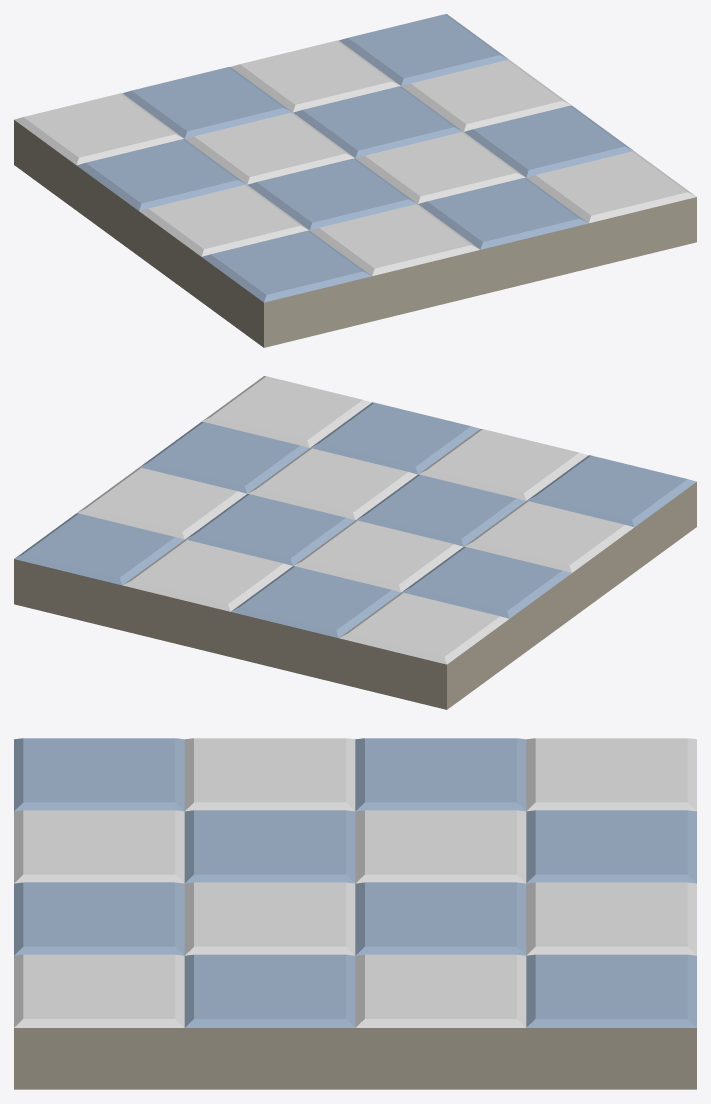
File: Mesh_GroundCeramic_I2.fbx
3 views of the same model, one above another, from view 1: azimuth 30°, elevation 25°; view 2: azimuth 150°, elevation 25°; view 3: azimuth 270°, elevation 25° (orthographic). The views are drawn at different scales.
Parts seen in each view (by area): view 1: Mesh_GroundCeramic_I2; view 2: Mesh_GroundCeramic_I2; view 3: Mesh_GroundCeramic_I2.
Boxes of the visible parts, box(x1,y1,x2,y2) form: Mesh_GroundCeramic_I2: box(14, 14, 696, 347); Mesh_GroundCeramic_I2: box(14, 376, 696, 709); Mesh_GroundCeramic_I2: box(14, 738, 696, 1089).
Size of the model in its own units: 1 by 0.1082 by 1.
